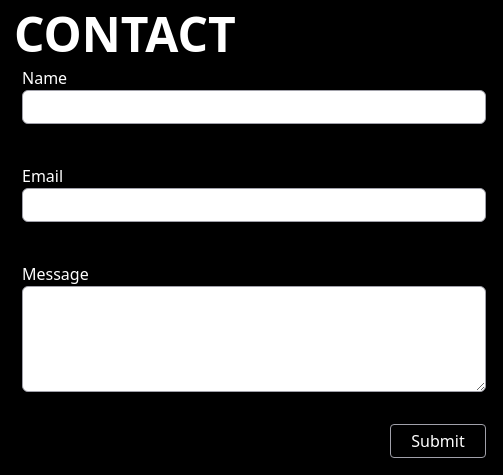
it: <ContactSection /> › err messages for name and email render on submit btn click
The width and height of the screenshot is (503, 475).
Step 1. Click the button "Submit" → (438, 441), box [390,424,486,458]
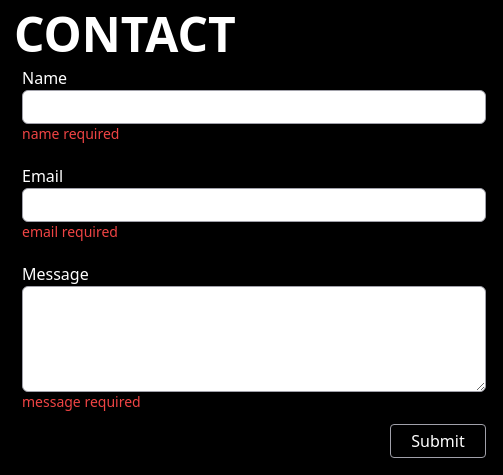
Result: the text "name required" is shown at [22,124,119,143]
Result: the text "email required" is shown at [22,222,118,241]
